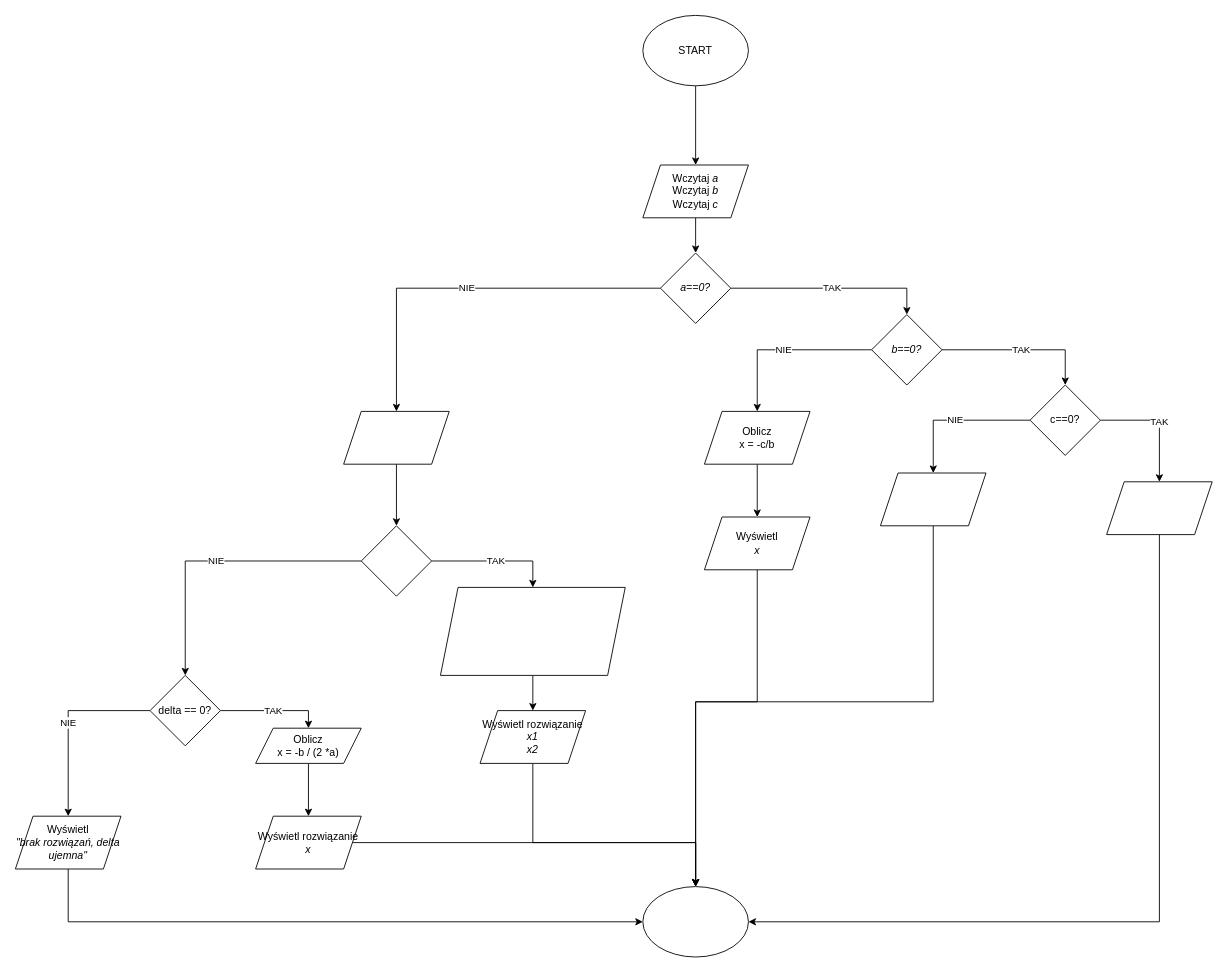
Some shapes in this 1228 by 972 pixel diagram are drawn without their labels. The shapes that lost their labels are listed below. From the top down, each one's box as (x1, y1, x2, y2) in pixels, then its label:
(343, 411, 449, 464): Oblicz delta = b^2 - 4ac
(880, 472, 986, 526): Wyświetl "równianie nie ma rozwiązania"
(1106, 481, 1212, 535): Wyświetl "równanie tożsamościowe"
(360, 525, 432, 596): delta > 0?
(440, 587, 625, 675): Oblicz x1= (-b + √delta ) / (2*a) x2= (-b - √delta ) / (2*a)
(642, 886, 748, 957): KONIEC
